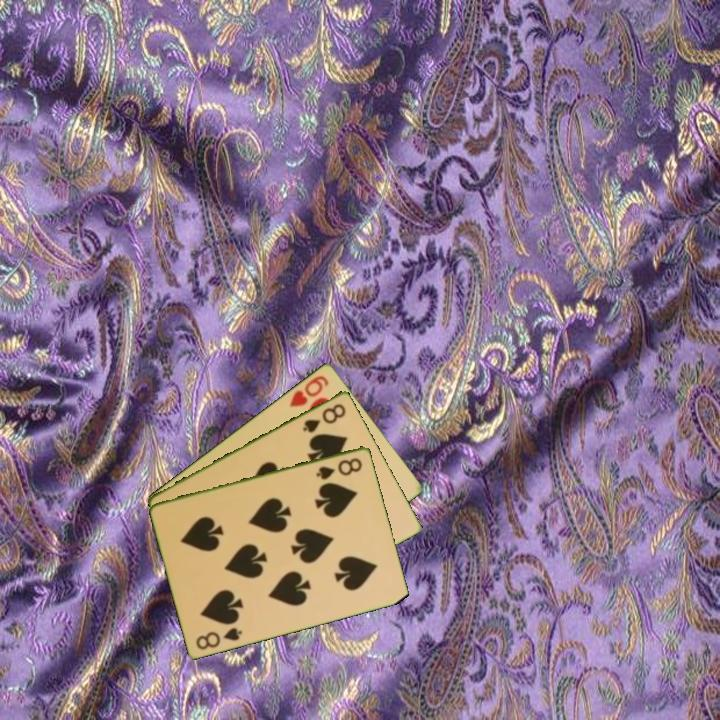6h: (286, 371, 331, 410)
8s: (299, 399, 349, 435), (313, 454, 365, 482), (193, 624, 245, 652)
